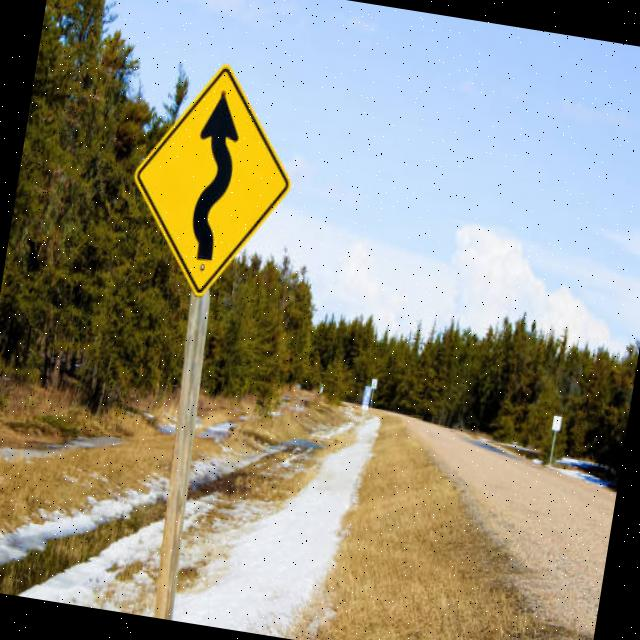left_sharp_curve: (103, 52, 314, 328)
